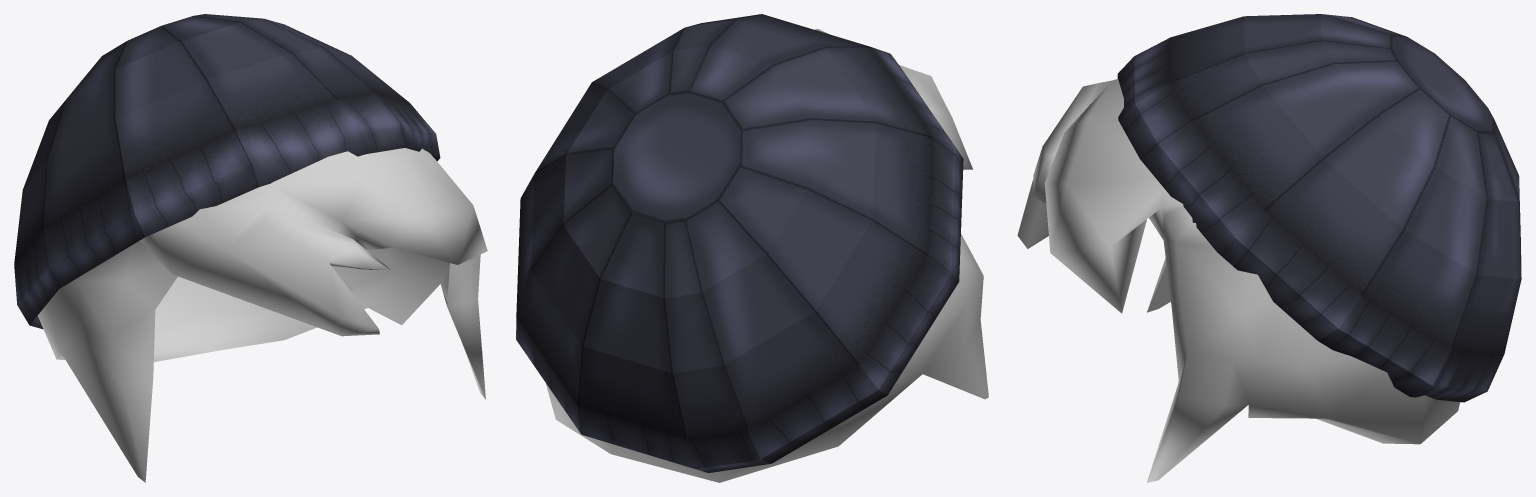
The model's file is Hat_Woolly_WithHair.FBX.
3 views of the same model, side by side, from view 1: azimuth 30°, elevation 25°; view 2: azimuth 150°, elevation 25°; view 3: azimuth 270°, elevation 25° (orthographic). The views are drawn at different scales.
Visible parts, largest first — view 1: Hair_ForWoollyHat, Hat_Woolly; view 2: Hat_Woolly, Hair_ForWoollyHat; view 3: Hat_Woolly, Hair_ForWoollyHat.
Boxes of the visible parts, x1,y1,x2,y2 form: Hair_ForWoollyHat: (37,148,487,482); Hat_Woolly: (14,14,440,329); Hat_Woolly: (516,14,963,472); Hair_ForWoollyHat: (546,29,988,482); Hat_Woolly: (1117,14,1521,402); Hair_ForWoollyHat: (1017,79,1460,482).
Bounding box in the file's own units: 259 × 232 × 285.
